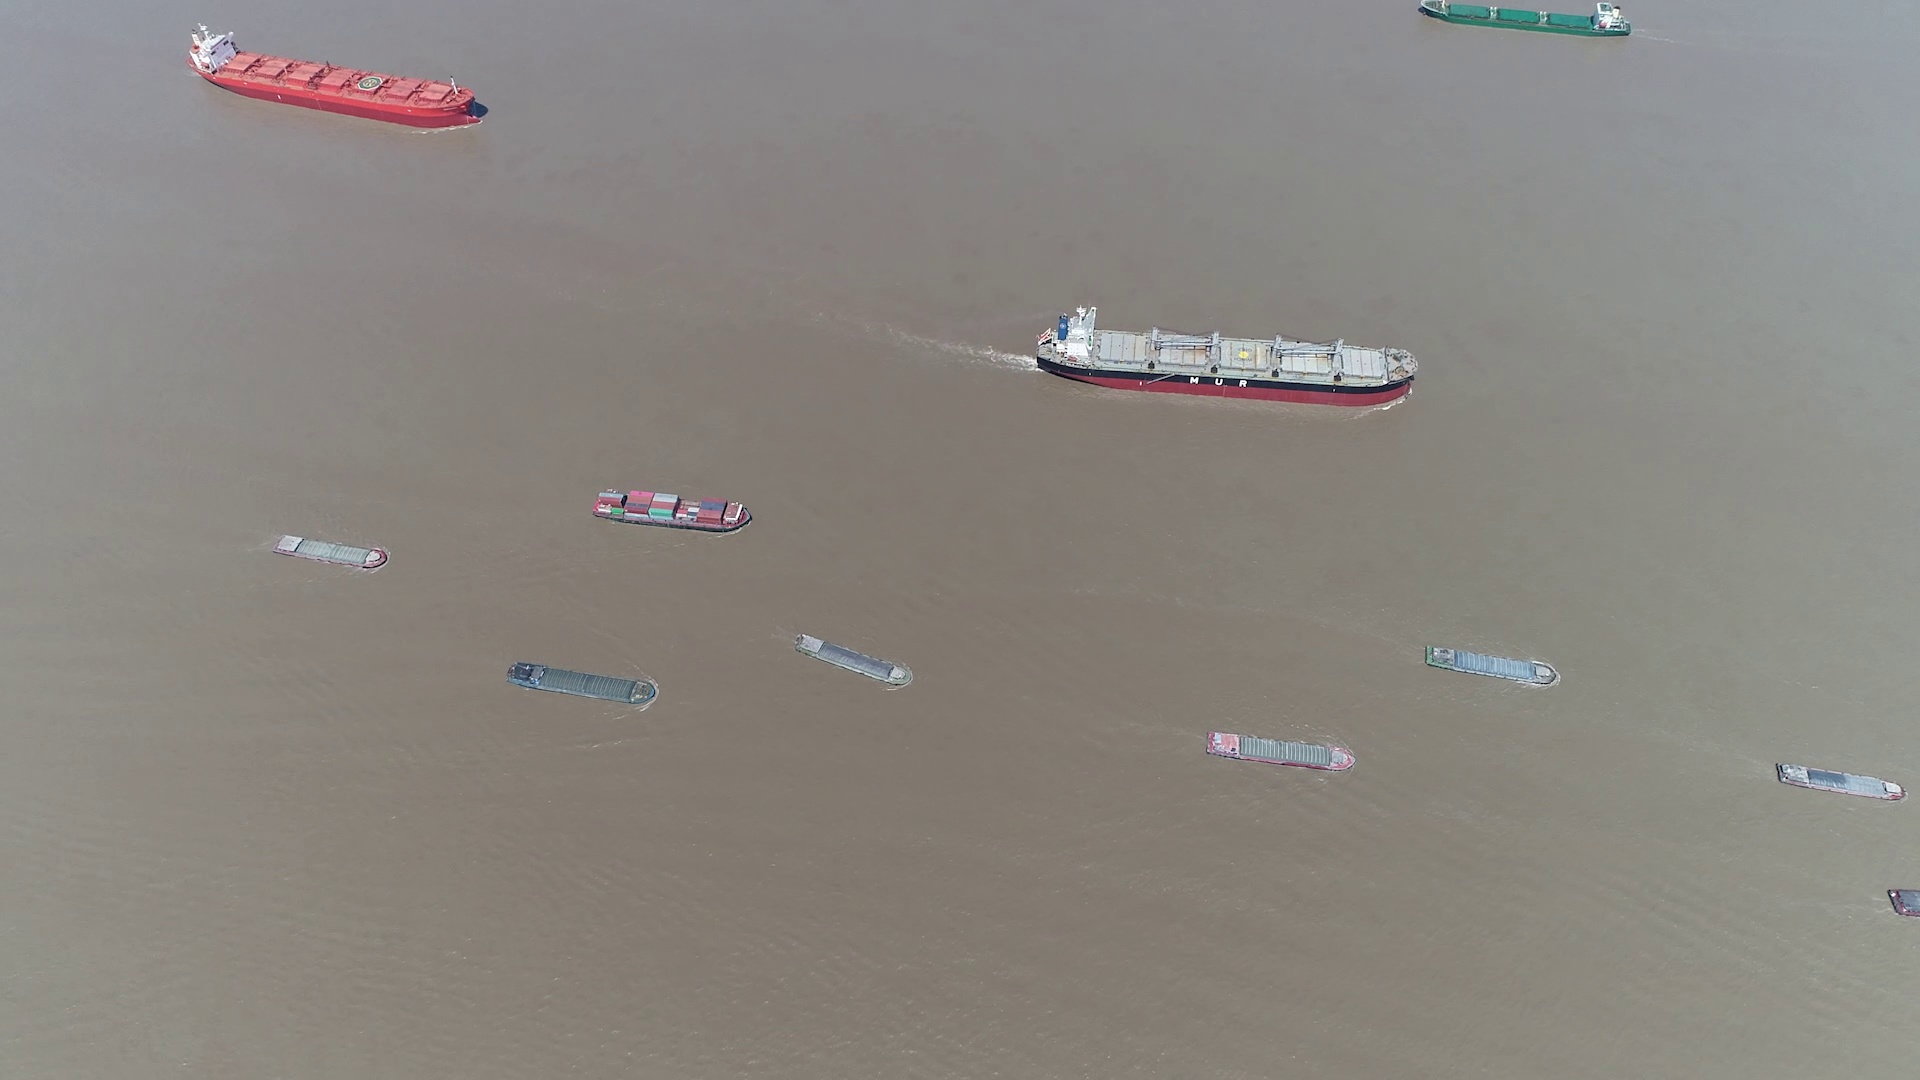ship: (1036, 307, 1418, 406), (190, 24, 487, 127), (1418, 0, 1631, 36), (591, 489, 752, 531), (795, 634, 913, 690), (506, 663, 659, 705), (1204, 731, 1356, 771), (1425, 646, 1559, 687), (1776, 761, 1905, 800), (273, 534, 388, 570), (1887, 889, 1917, 919)
